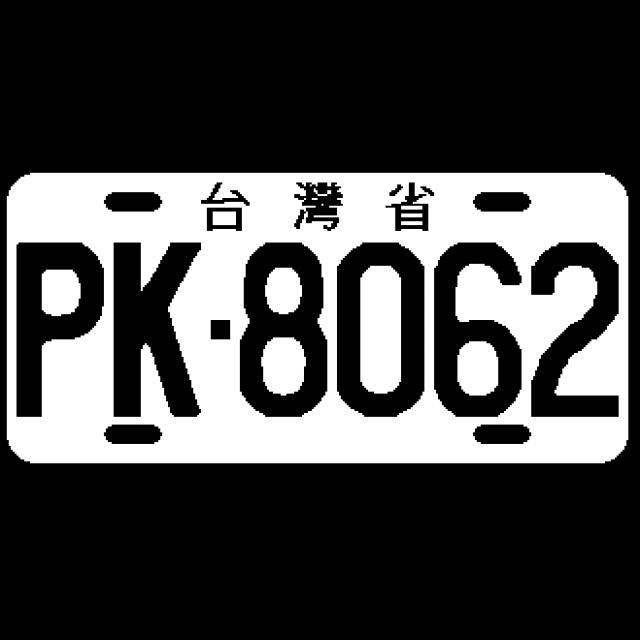plate: (4, 171, 632, 467)
